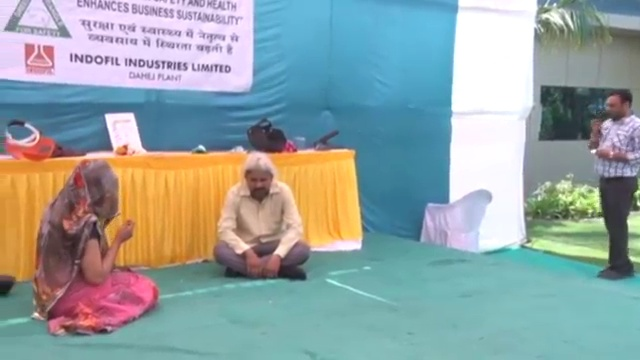helmet_off: (74, 160, 117, 203), (242, 153, 274, 199), (604, 91, 633, 119)
person: (29, 157, 157, 338), (211, 152, 311, 283), (583, 90, 639, 282)
